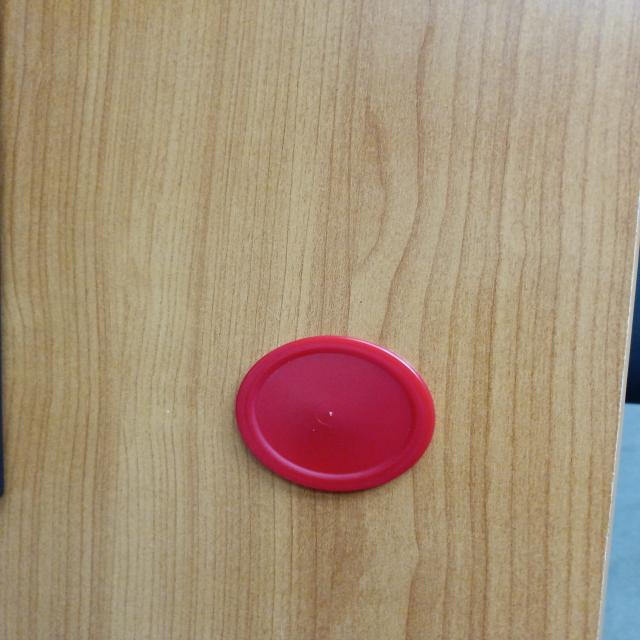chip: (232, 334, 438, 492)
